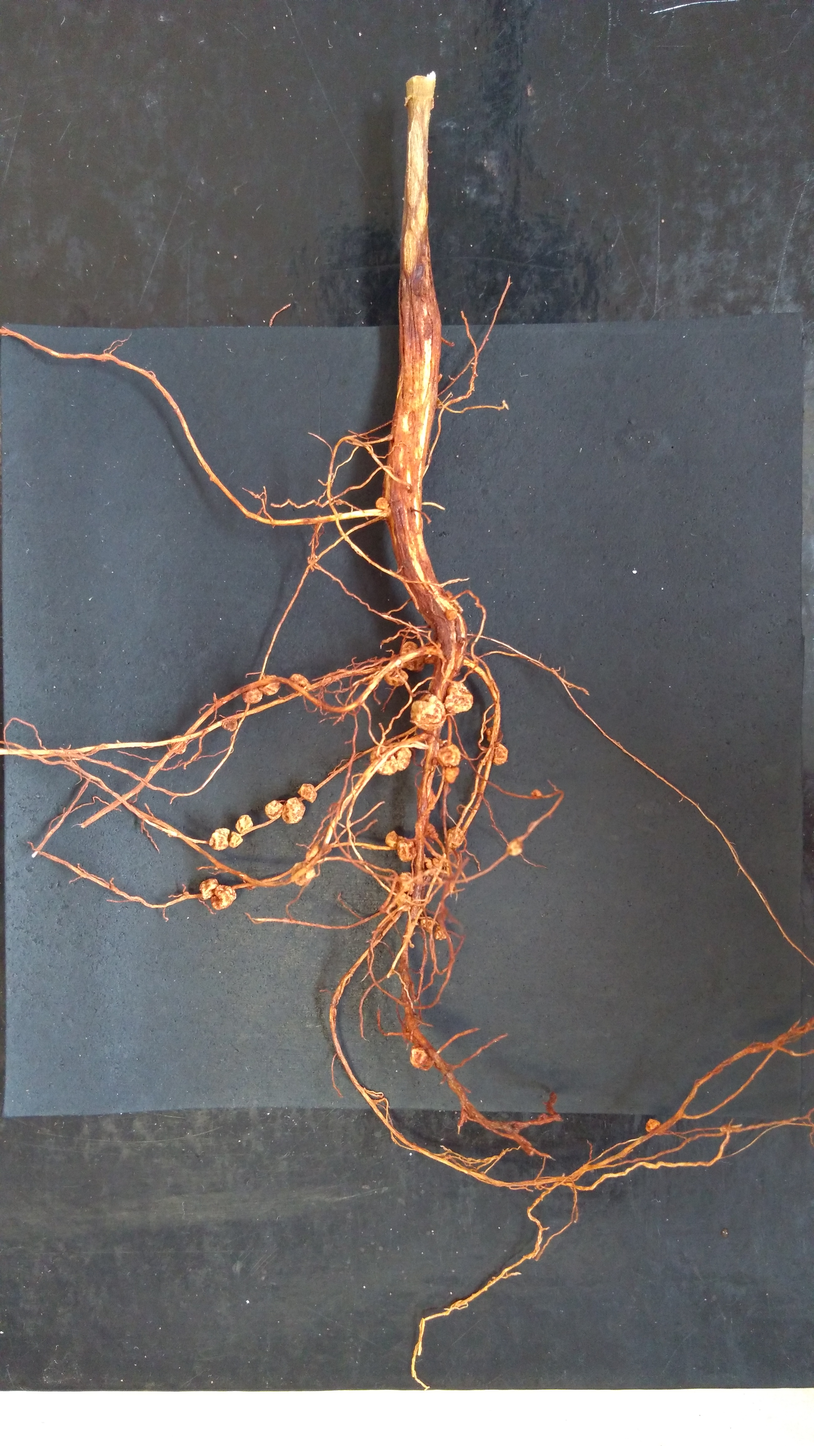nodule: (368, 742, 413, 779), (409, 692, 446, 731), (443, 681, 475, 719), (207, 883, 239, 914), (398, 640, 426, 672), (290, 860, 319, 889), (408, 1044, 437, 1073), (281, 797, 307, 826), (441, 824, 467, 851), (437, 743, 462, 768), (258, 673, 282, 698), (198, 875, 220, 901), (394, 837, 416, 863), (208, 827, 230, 852), (383, 667, 409, 688), (395, 871, 416, 897), (296, 782, 319, 804), (391, 891, 414, 913), (241, 686, 264, 706), (492, 741, 509, 767), (263, 799, 283, 821), (169, 734, 188, 757), (288, 672, 312, 690), (234, 814, 255, 834), (505, 838, 524, 858), (425, 820, 439, 846), (422, 642, 438, 664), (485, 725, 503, 743), (382, 828, 398, 848), (645, 1115, 662, 1133), (443, 767, 461, 784), (228, 830, 244, 849), (221, 717, 238, 734), (301, 844, 318, 861), (434, 924, 449, 942), (419, 917, 435, 932), (375, 496, 390, 511), (529, 786, 542, 799), (445, 609, 458, 622)
